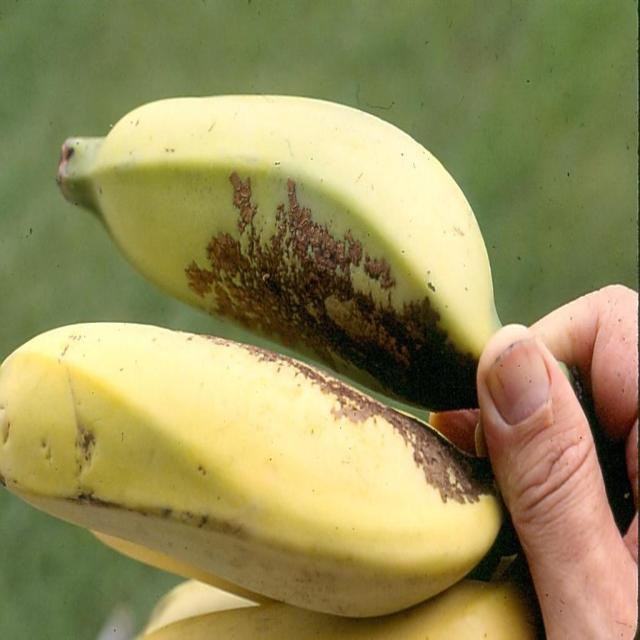banana: (54, 95, 502, 456), (0, 318, 483, 614)
